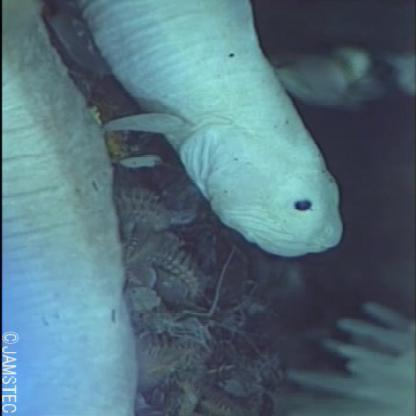Bio: (73, 0, 350, 262)
